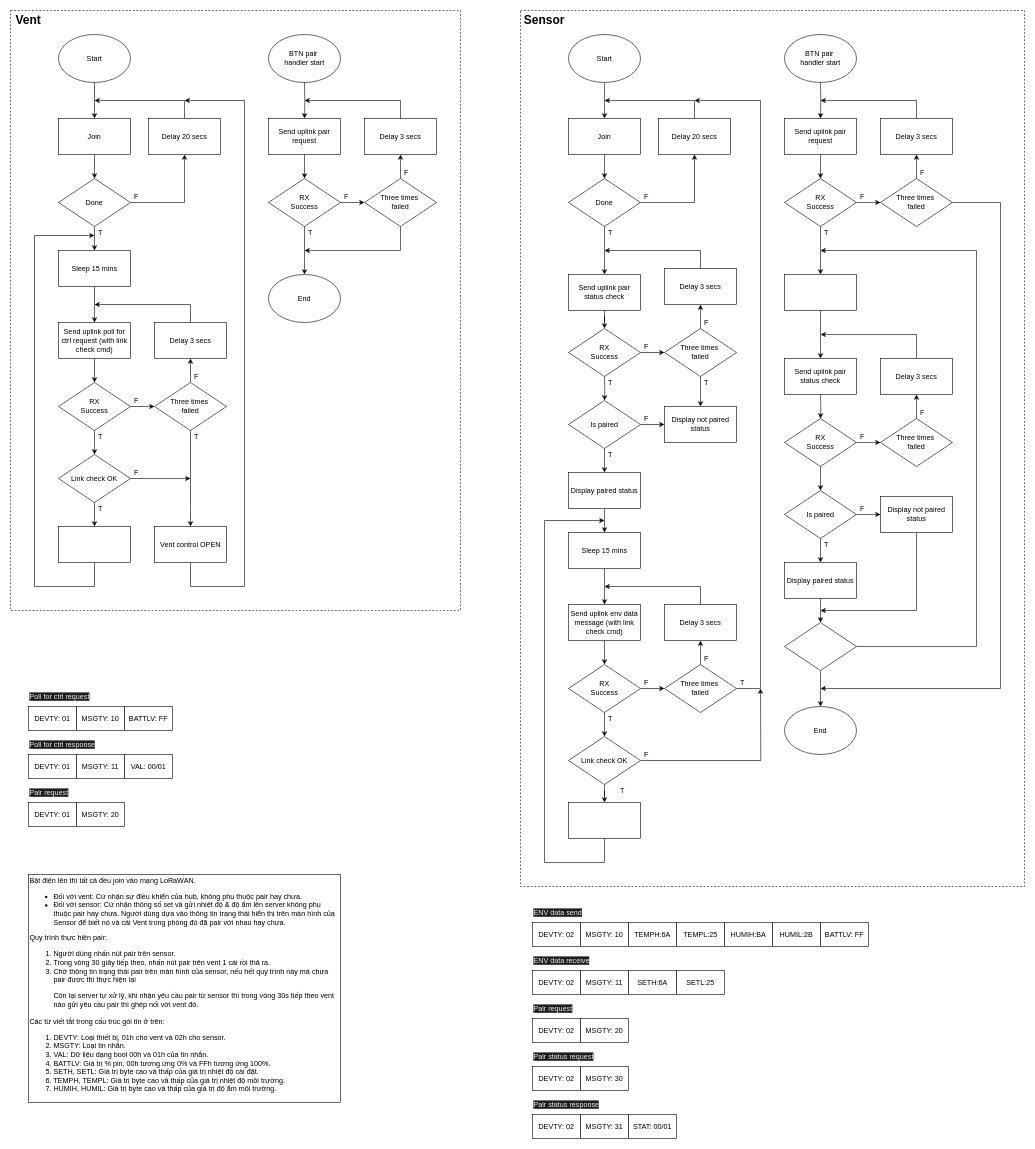
This 1035x1149 diagram has some shape labels left out. The centre of each missing label's shape, as x and y in pixels:
"Delay 10 secs" goes at [820,292].
"Display temperature set" goes at [604,820].
"Over 30 secs" goes at [820,646].
"Vent control OPEN/CLOSE" goes at [94,544].
